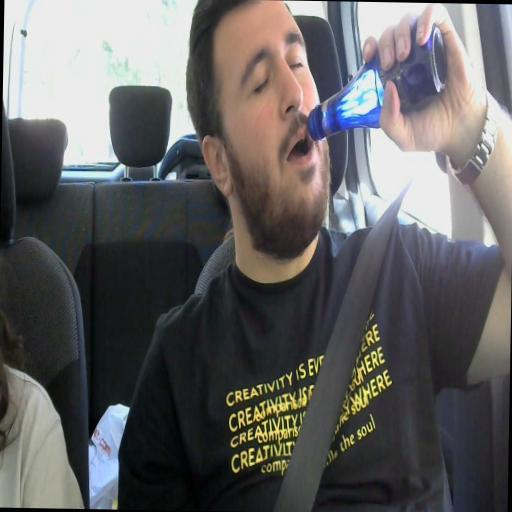Drinking: (189, 0, 465, 250)
